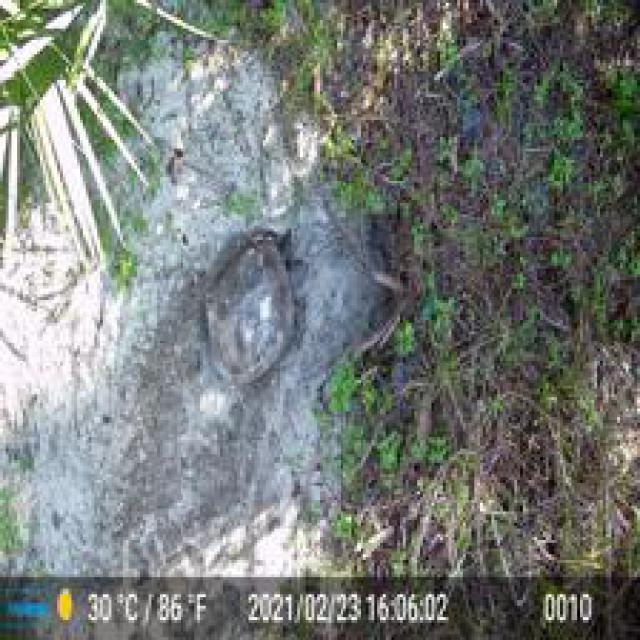tortoise: (203, 226, 308, 386)
